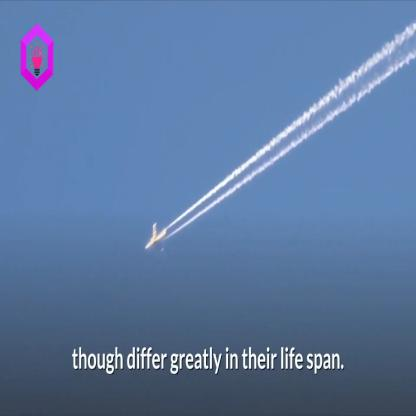plane: (141, 220, 173, 258)
